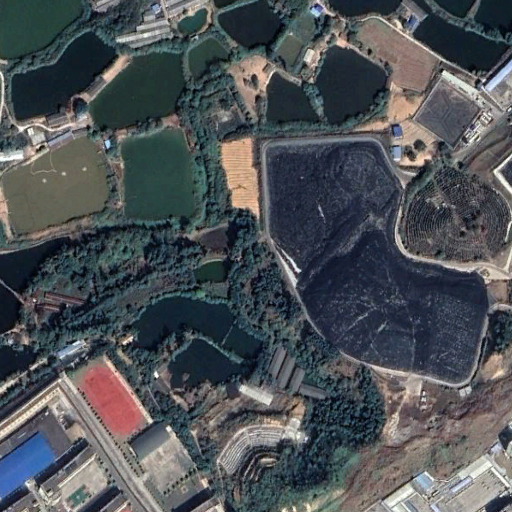lf: (261, 138, 489, 384)
